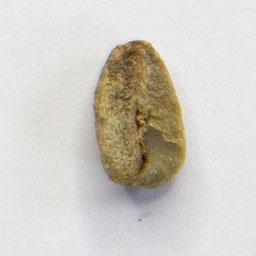defect: (91, 39, 189, 191)
